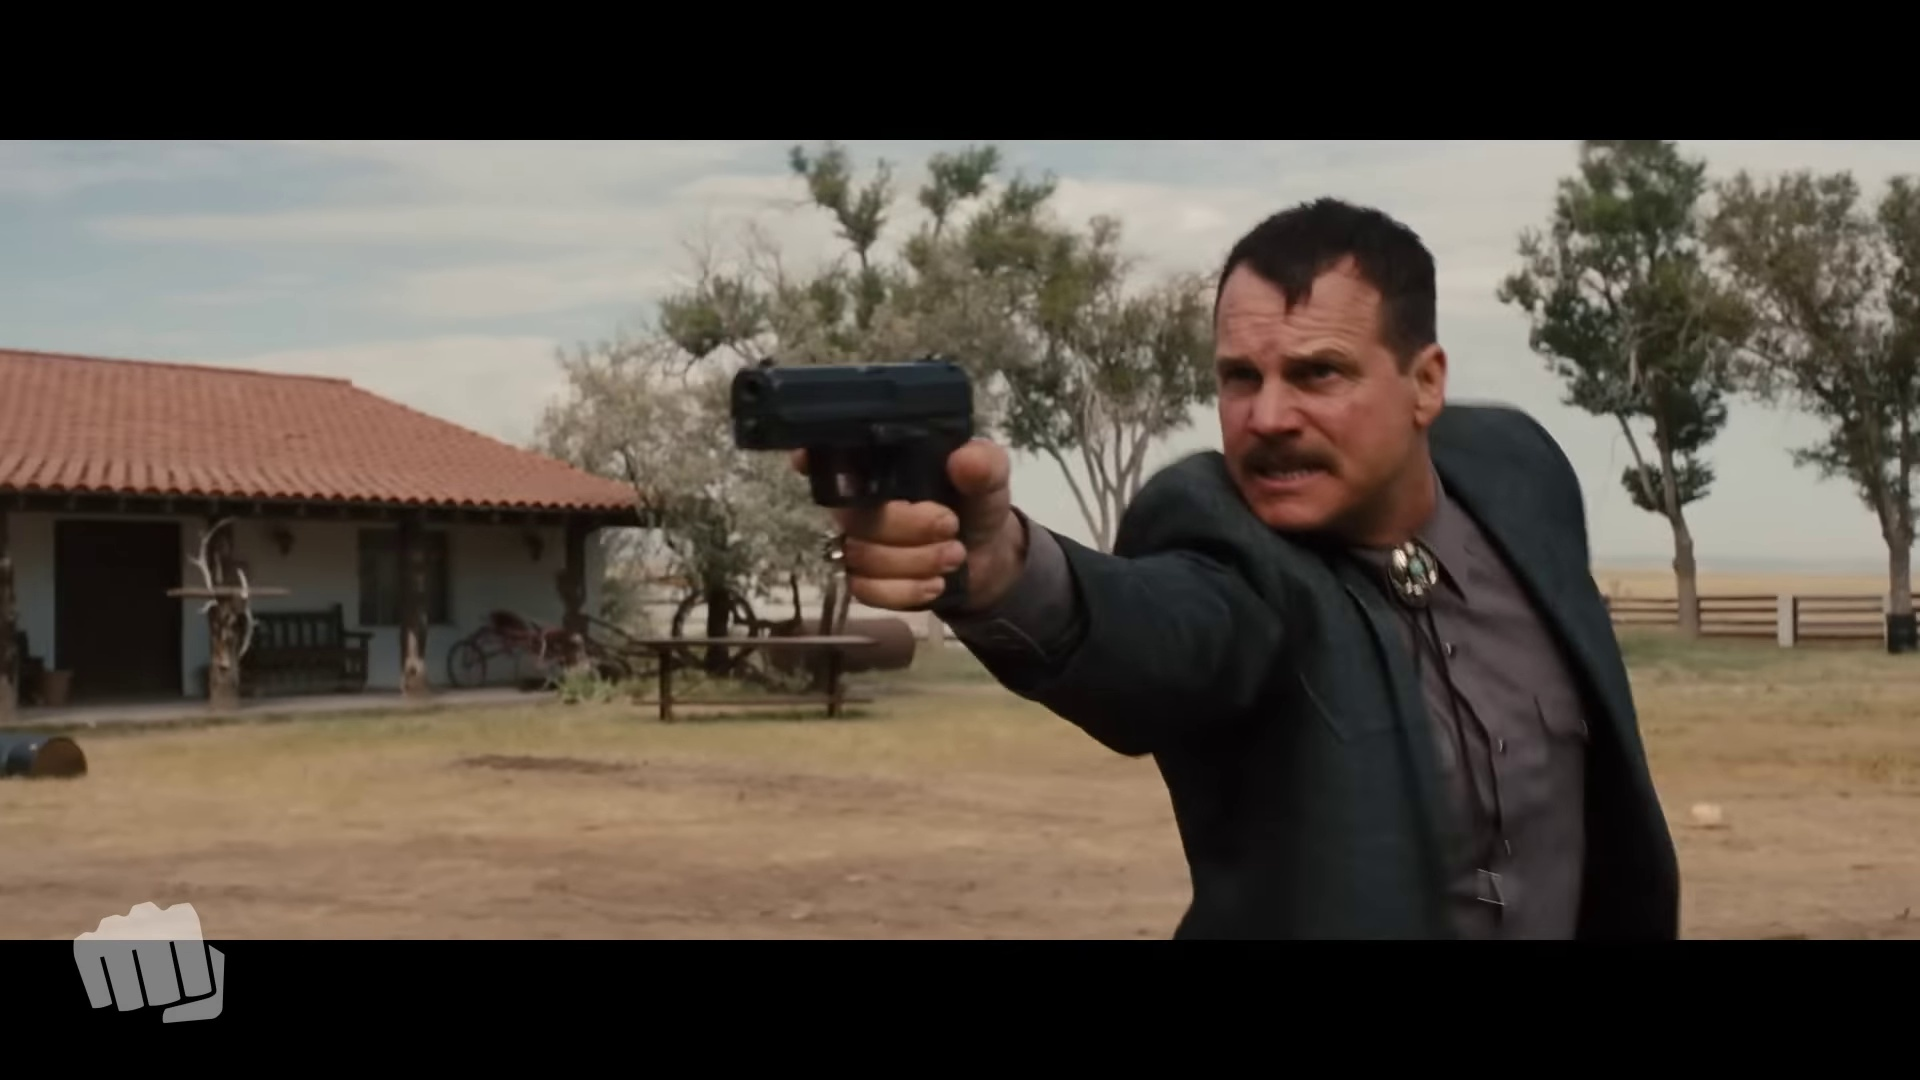gun: (729, 340, 982, 592)
p_w_gun: (724, 191, 1684, 942)
